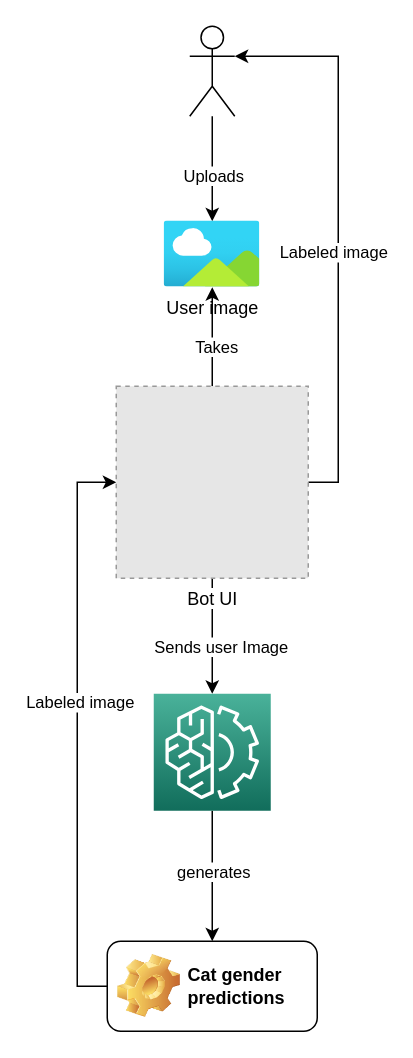
Image size: 413x1058. Some labels were removed from this diagram. Grey dashed boxes stand in for pictures. Here are the shapes that lost their labels. From the top down, the centre of each, then its label:
(211,70): User
(211,751): CatGenderDetector
